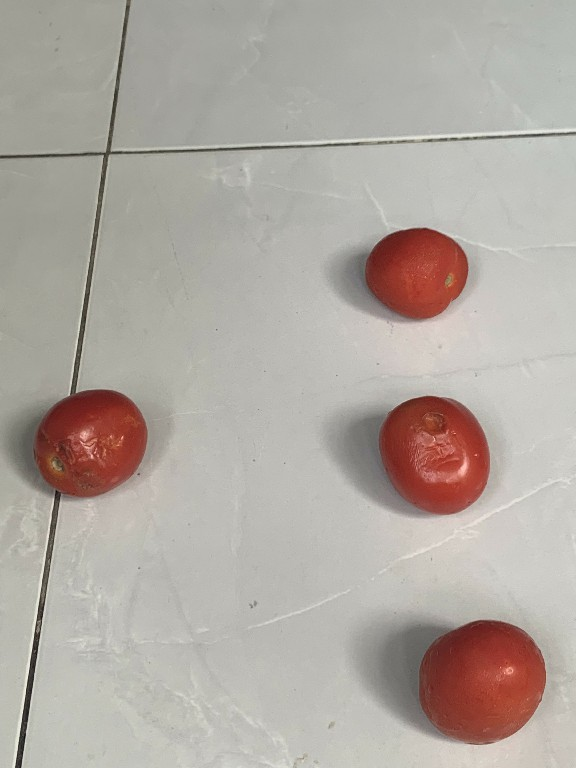NG: (27, 383, 155, 500), (377, 395, 496, 519)
OK: (415, 617, 552, 750), (360, 221, 469, 322)
